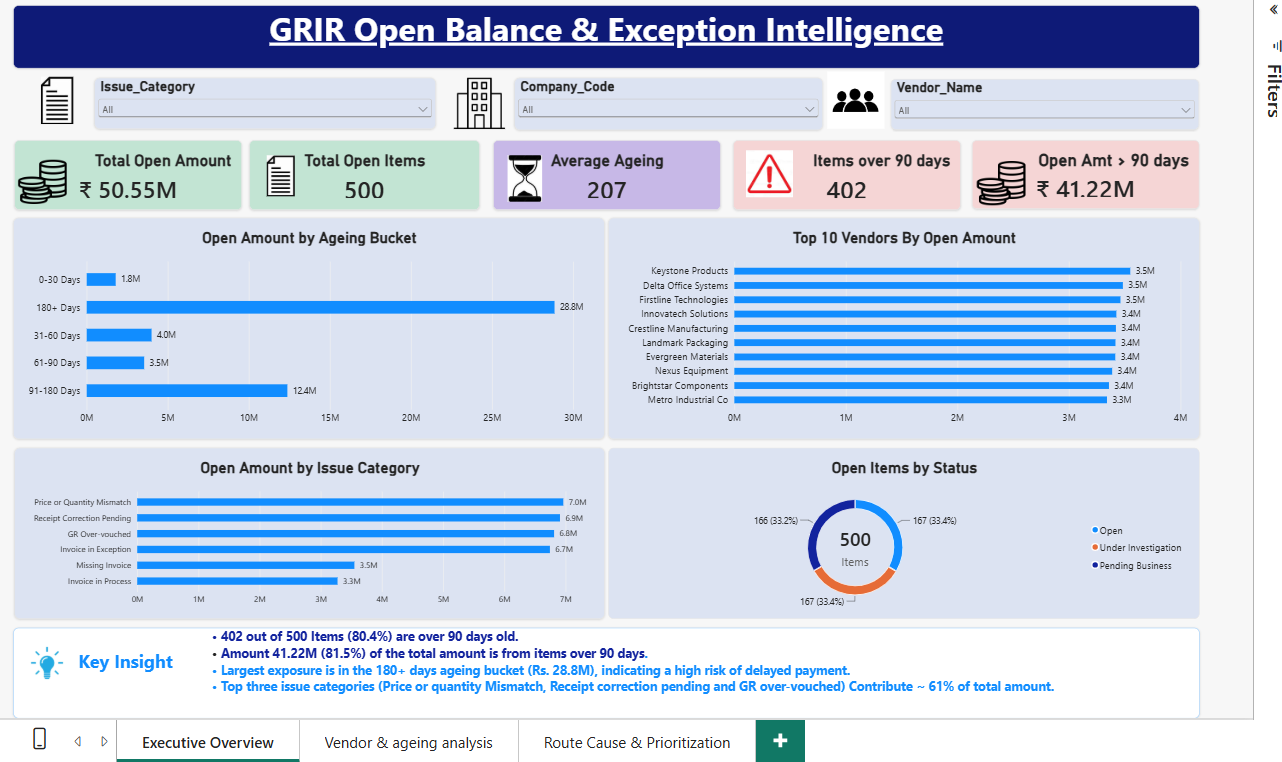

The dashboard page shown, as its layout file describes it:
{"tool":"powerbi","page":{"name":"Executive Overview","canvas":[1920,1080],"ordinal":0},"visuals":[{"type":"card","title":"Total Open Amount","fields":{"Values":["GRIR_Data.Total Open Amount"]},"box":[84.7,224.5,336.8,103.1],"z":0},{"type":"card","title":"Total Open Items","fields":{"Values":["CountNonNull(GRIR_Data.Item_ID)"]},"box":[432.5,224.5,340.5,103.1],"z":1},{"type":"card","title":"Average Ageing","fields":{"Values":["Avg(GRIR_Data.Ageing_Days)"]},"box":[795.1,224.5,336.8,103.1],"z":2},{"type":"card","title":"Items over 90 days","fields":{"Values":["GRIR_Data.Items over 90 days"]},"box":[1150.3,224.5,336.8,103.1],"z":3},{"type":"card","title":"Open Amt > 90 days","fields":{"Values":["GRIR_Data.Amount Over 90 Days"]},"box":[1503.7,224.5,336.8,101.2],"z":4},{"type":"clusteredBarChart","title":"Open Amount by Ageing Bucket","fields":{"Category":["GRIR_Data.Ageing_Bucket"],"Y":["Sum(GRIR_Data.Open_Amount_INR)"]},"box":[82.8,338.7,876.1,327.6],"z":5},{"type":"clusteredBarChart","title":"Top 10 Vendors By Open Amount","fields":{"Category":["GRIR_Data.Vendor_Name"],"Y":["Sum(GRIR_Data.Open_Amount_INR)"]},"box":[964.4,338.7,876.1,327.6],"z":6},{"type":"clusteredBarChart","title":"Open Amount by Issue Category","fields":{"Category":["GRIR_Data.Issue_Category"],"Y":["Sum(GRIR_Data.Open_Amount_INR)"]},"box":[84.7,679.1,874.2,254],"z":7},{"type":"donutChart","title":"Open Items by Status","fields":{"Category":["GRIR_Data.Status"],"Y":["CountNonNull(GRIR_Data.Item_ID)"]},"box":[964.4,679.1,876.1,254],"z":8},{"type":"slicer","fields":{"Values":["GRIR_Data.Company_Code"]},"box":[826.4,130.7,456.4,77.3],"z":9},{"type":"slicer","fields":{"Values":["GRIR_Data.Vendor_Name"]},"box":[1384.1,132.5,456.4,75.5],"z":10},{"type":"slicer","fields":{"Values":["GRIR_Data.Issue_Category"]},"box":[203.7,131.5,505.6,75.9],"z":11},{"type":"textbox","box":[82.8,23.9,1757.7,93.9],"z":12},{"type":"image","box":[82.8,248.5,86.5,75.5],"z":13},{"type":"image","box":[1503.7,250.3,86.5,75.5],"z":14},{"type":"image","box":[1054.6,239.3,300,69.9],"z":17},{"type":"image","box":[705.6,131.5,137,75.9],"z":18},{"type":"image","box":[1279.6,122.2,103.7,85.2],"z":20},{"type":"textbox","box":[82.8,946,1757.7,134.4],"z":21},{"type":"image","box":[87,946.3,92.6,103.7],"z":22},{"type":"textbox","box":[180.4,977.3,300,71.8],"z":23},{"type":"textbox","box":[362.6,946,1310.4,134.4],"z":24},{"type":"image","box":[403.8,245.6,151.9,61.1],"z":25},{"type":"image","box":[85.2,129.6,125.9,70.4],"z":26},{"type":"image","box":[709,245.6,264.2,68.9],"z":27}]}

Visuals, with their boxes on the page's 1920x1080 design canvas (x1, y1, x2, y2). These are canvas units, not pixel positions in the 1282x762 screenshot, which may show the page scaled, cropped or inside an application window:
"Total Open Amount" card: <box>85,224,422,328</box>
"Total Open Items" card: <box>432,224,773,328</box>
"Average Ageing" card: <box>795,224,1132,328</box>
"Items over 90 days" card: <box>1150,224,1487,328</box>
"Open Amt > 90 days" card: <box>1504,224,1840,326</box>
"Open Amount by Ageing Bucket" clusteredBarChart: <box>83,339,959,666</box>
"Top 10 Vendors By Open Amount" clusteredBarChart: <box>964,339,1840,666</box>
"Open Amount by Issue Category" clusteredBarChart: <box>85,679,959,933</box>
"Open Items by Status" donutChart: <box>964,679,1840,933</box>
slicer - GRIR_Data.Company_Code: <box>826,131,1283,208</box>
slicer - GRIR_Data.Vendor_Name: <box>1384,132,1840,208</box>
slicer - GRIR_Data.Issue_Category: <box>204,132,709,207</box>
textbox: <box>83,24,1840,118</box>
image: <box>83,248,169,324</box>
image: <box>1504,250,1590,326</box>
image: <box>1055,239,1355,309</box>
image: <box>706,132,843,207</box>
image: <box>1280,122,1383,207</box>
textbox: <box>83,946,1840,1080</box>
image: <box>87,946,180,1050</box>
textbox: <box>180,977,480,1049</box>
textbox: <box>363,946,1673,1080</box>
image: <box>404,246,556,307</box>
image: <box>85,130,211,200</box>
image: <box>709,246,973,314</box>
